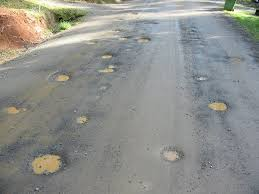pothole: (20, 145, 79, 181), (150, 142, 188, 166), (3, 101, 34, 121), (47, 69, 79, 85), (203, 98, 233, 115), (189, 71, 213, 87), (72, 111, 94, 128), (94, 63, 117, 78), (135, 34, 152, 46), (98, 52, 117, 62)
